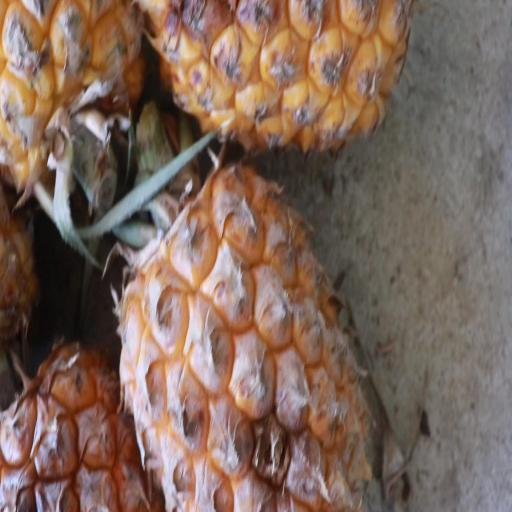Pineapple - v8 v1: (108, 160, 369, 512)
